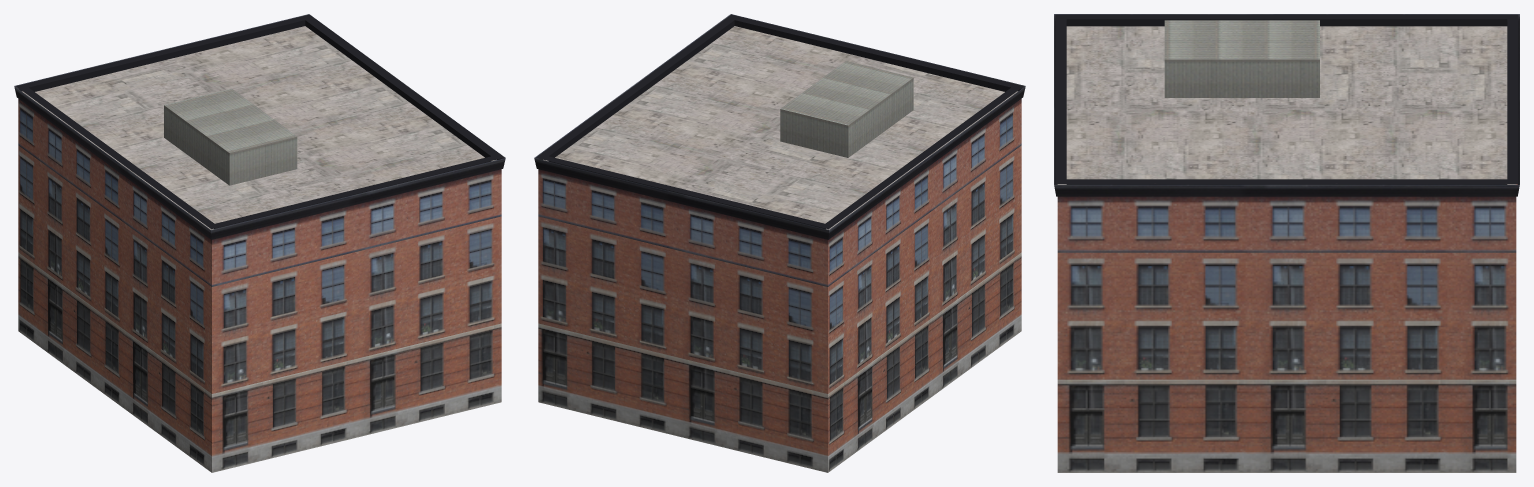
File: building_44.obj
3 renders of one model, left to right at view 1: azimuth 30°, elevation 25°; view 2: azimuth 150°, elevation 25°; view 3: azimuth 270°, elevation 25°, orthographic. The views are drawn at different scales.
Visible parts, largest first — view 1: BakedBuilding_341; view 2: BakedBuilding_341; view 3: BakedBuilding_341.
Boxes of the visible parts, bbox=[...] form: BakedBuilding_341: bbox=[14, 14, 505, 472]; BakedBuilding_341: bbox=[534, 14, 1025, 472]; BakedBuilding_341: bbox=[1054, 14, 1519, 472].
Size of the model in its own units: 59.05 by 51.93 by 68.2.
